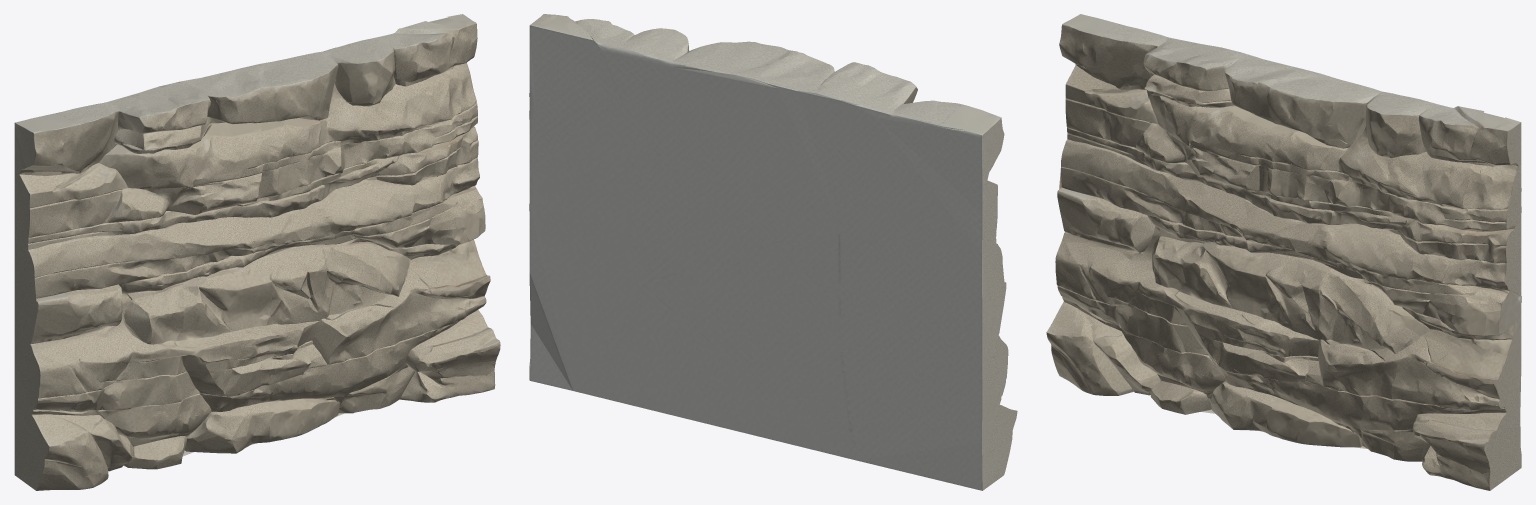
The model's file is roccia_parete_bianca.glb.
3 renders of one model, left to right at view 1: azimuth 30°, elevation 25°; view 2: azimuth 150°, elevation 25°; view 3: azimuth 330°, elevation 25°, orthographic. The views are drawn at different scales.
Size of the model in its own units: 1.9 by 1.47 by 0.2973.
1 material, 1 textured.
